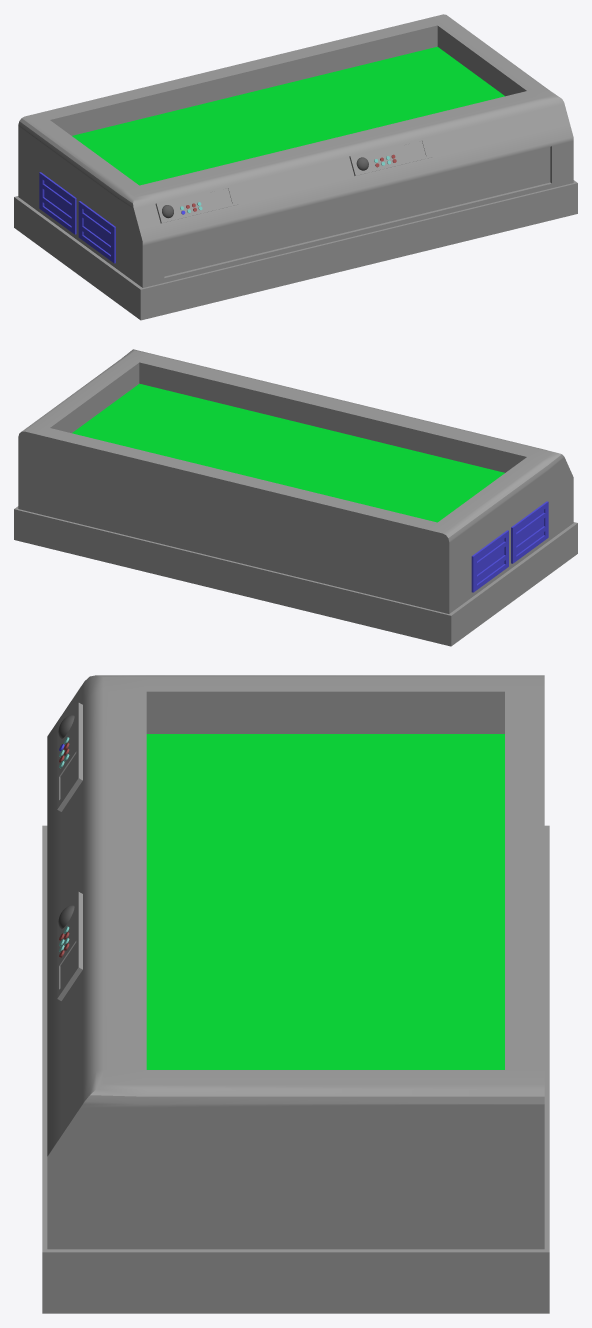
Rendered from planter_01.fbx.
The picture shows the model from 3 angles, top to bottom: view 1: azimuth 30°, elevation 25°; view 2: azimuth 150°, elevation 25°; view 3: azimuth 270°, elevation 25°; orthographic projection. The views are drawn at different scales.
Parts seen in each view (by area): view 1: planter_01; view 2: planter_01; view 3: planter_01.
Boxes of the visible parts, box(x1,y1,x2,y2) form: planter_01: box(14, 14, 577, 320); planter_01: box(14, 349, 577, 646); planter_01: box(42, 675, 549, 1313).
Bounding box in the file's own units: 4.06 × 0.9746 × 2.04.
